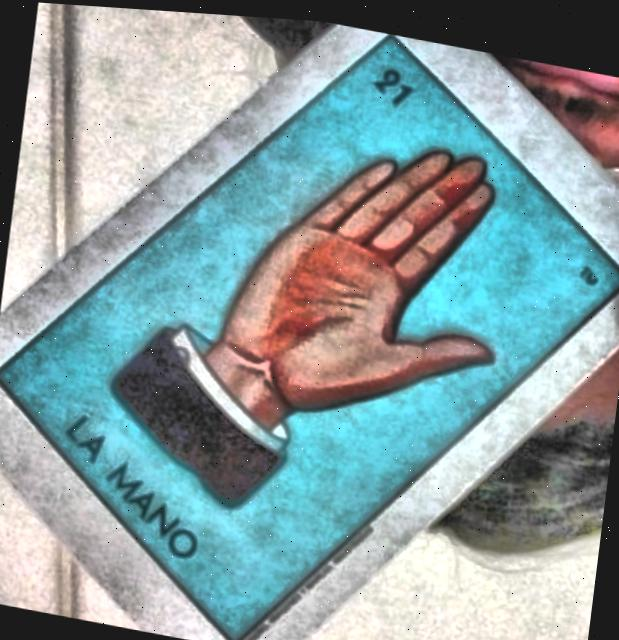La Mano: (0, 30, 619, 637)
